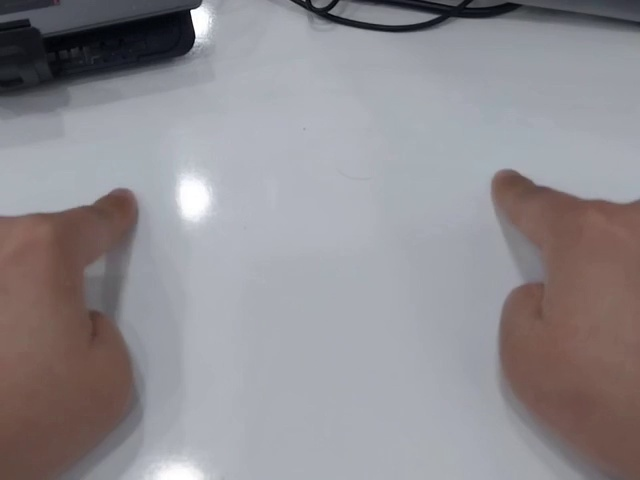fingers: (95, 185, 140, 240), (490, 167, 534, 215)
